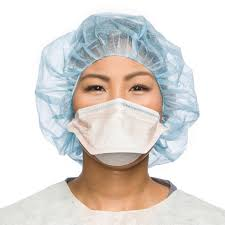Mask: (73, 52, 160, 167)
